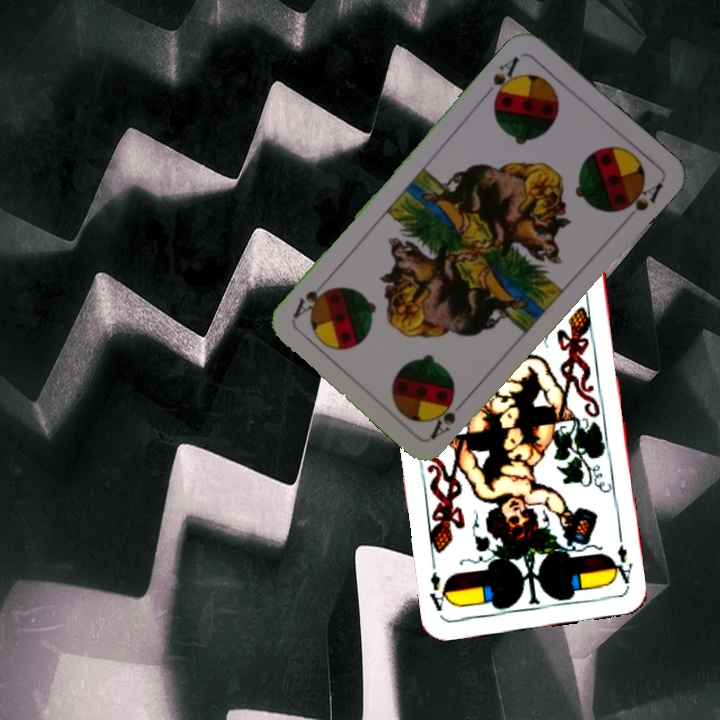EA: (607, 532, 636, 591)
SA: (479, 52, 522, 107), (426, 393, 471, 442)
